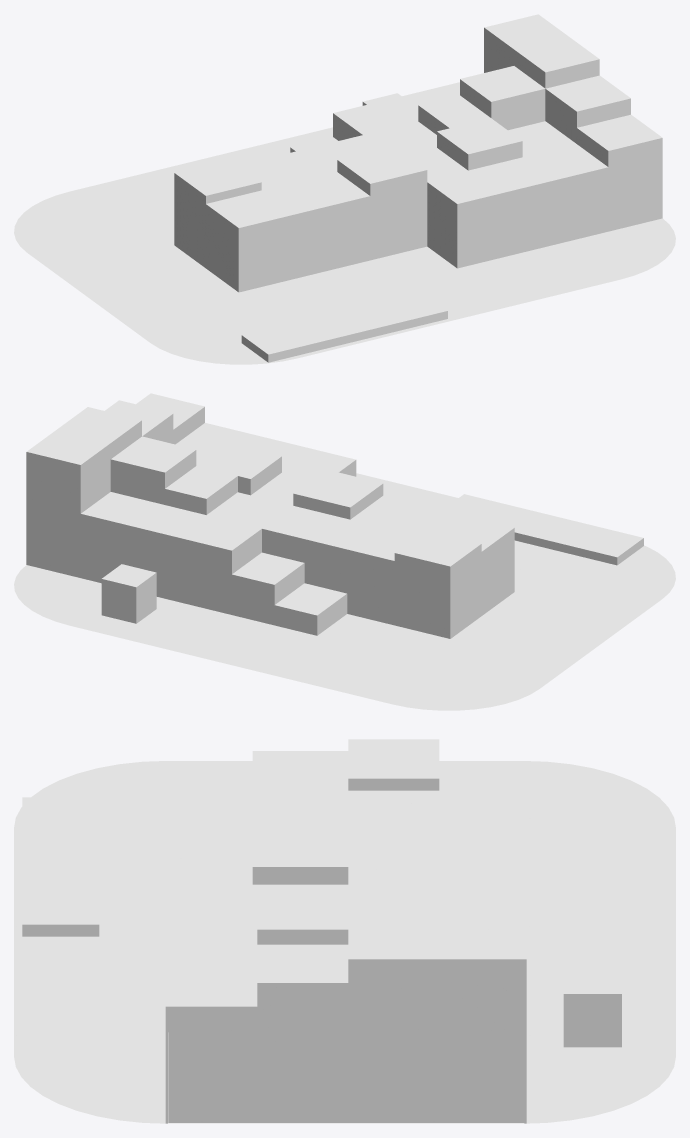
File: m7-zemin-remix-3.glb
3 renders of one model, top to bottom at view 1: azimuth 30°, elevation 25°; view 2: azimuth 150°, elevation 25°; view 3: azimuth 270°, elevation 25°, orthographic. The views are drawn at different scales.
Visible parts, largest first — view 1: Mesh_0.003; view 2: Mesh_0.003; view 3: Mesh_0.003.
Part boxes in pixels (left/top/right/bottom): Mesh_0.003: left=14, top=14, right=675, bottom=364; Mesh_0.003: left=14, top=393, right=675, bottom=710; Mesh_0.003: left=14, top=739, right=675, bottom=1123.
Bounding box in the file's own units: 6.6 × 1.39 × 5.09.
Materials: 1 (1 with a texture image).
